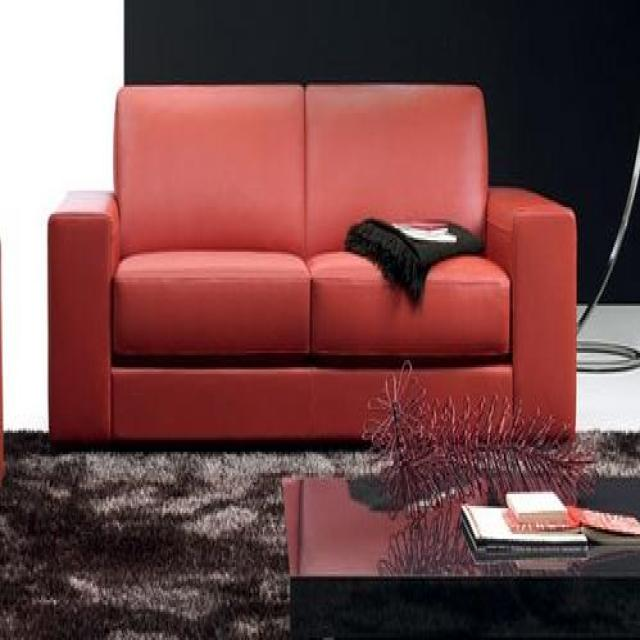sofa: (44, 80, 579, 451)
